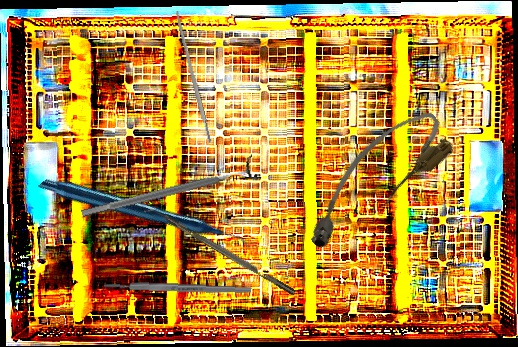Cannula: (287, 100, 461, 259)
Chopper: (142, 202, 296, 303)
Fixation Ring: (78, 153, 259, 228)
Handpiece: (37, 105, 251, 328)
Scalpel Handle: (173, 10, 213, 144), (103, 280, 252, 296)
